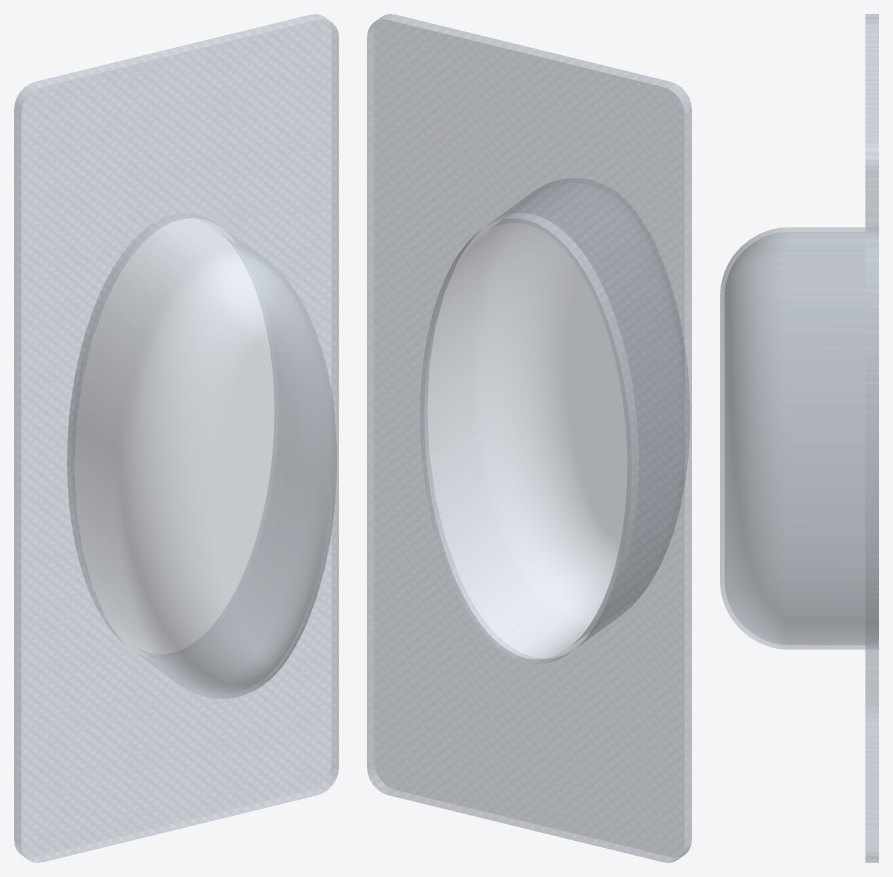
The model's file is blister-single-clear.glb.
3 renders of one model, left to right at view 1: azimuth 30°, elevation 25°; view 2: azimuth 150°, elevation 25°; view 3: azimuth 270°, elevation 25°, orthographic. The views are drawn at different scales.
Visible parts, largest first — view 1: film; view 2: film; view 3: film.
Part boxes in pixels (x1,y1,x2,y2): film: (14,14,338,862); film: (367,14,691,862); film: (720,14,878,862).
Size of the model in its own units: 15 by 35 by 7.
Materials: 1 (1 with a texture image).
